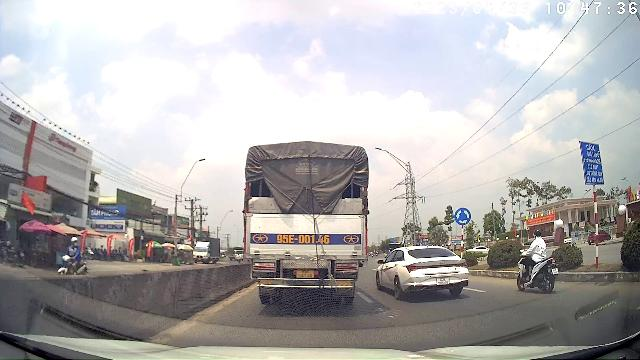303-noi-giao-nhau-chay-theo-vong-xuyen: (454, 207, 472, 225)
